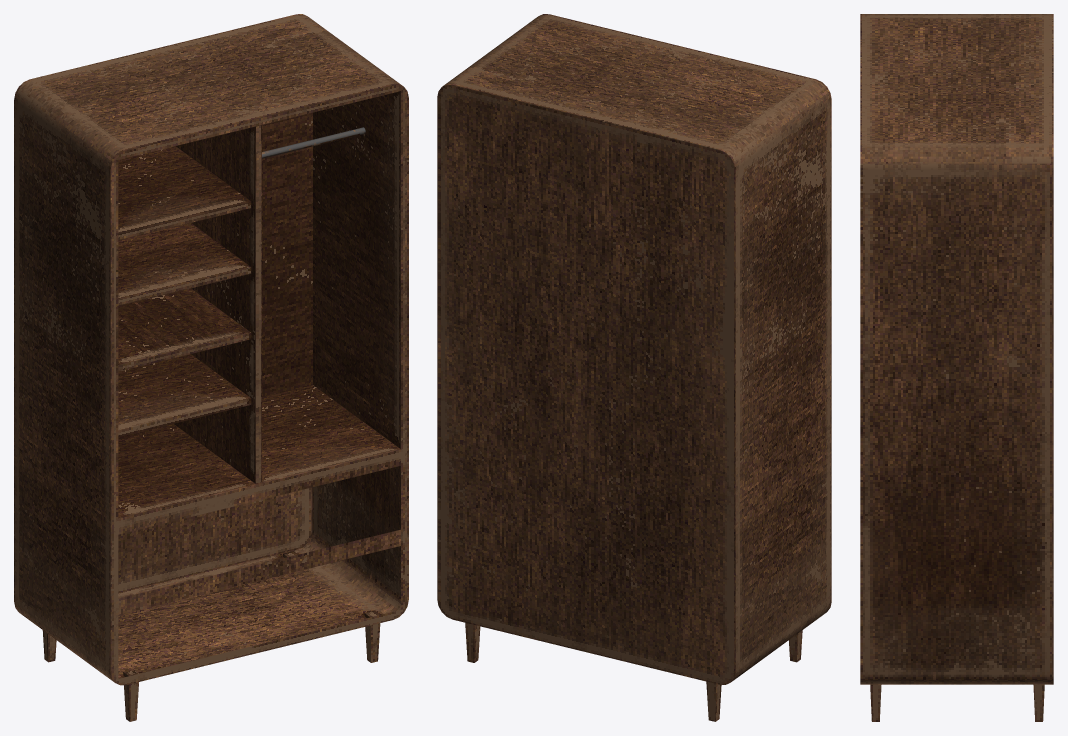
Rendered from WardrobeBase.glb.
3 views of the same model, side by side, from view 1: azimuth 30°, elevation 25°; view 2: azimuth 150°, elevation 25°; view 3: azimuth 270°, elevation 25° (orthographic).
Visible parts, largest first — view 1: Cube.260; view 2: Cube.260; view 3: Cube.260.
Boxes of the visible parts, x1=… form: Cube.260: x1=14, y1=14, x2=408, y2=721; Cube.260: x1=437, y1=14, x2=831, y2=721; Cube.260: x1=860, y1=14, x2=1053, y2=721.
Size of the model in its own units: 0.9517 by 1.76 by 0.5332.
Materials: 1 (1 with a texture image).
